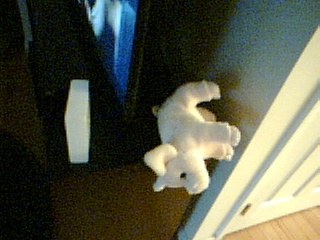piggy: (142, 79, 242, 196)
